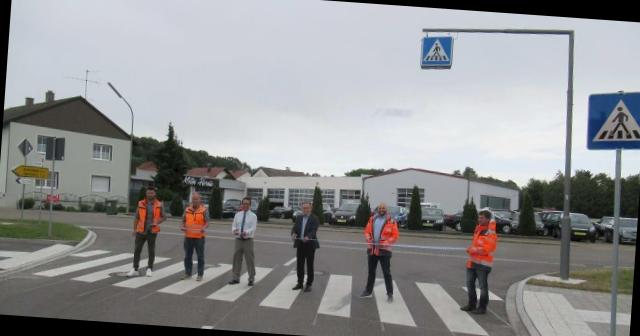crosswalk-sign: (585, 87, 640, 153), (421, 35, 455, 71)
